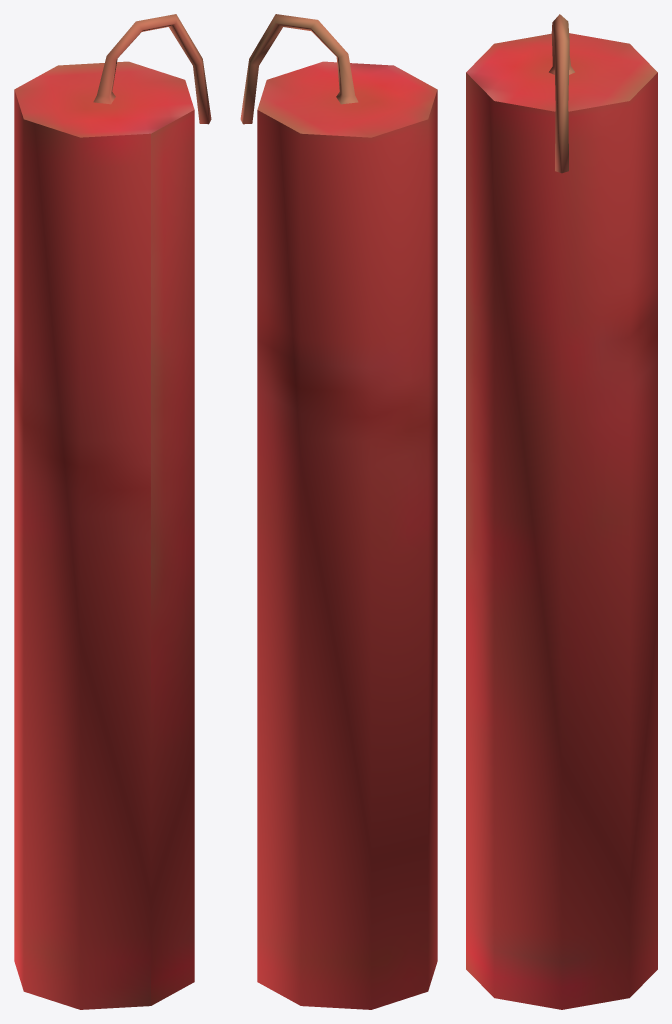
File: Dinamite.fbx
The picture shows the model from 3 angles, left to right: view 1: azimuth 30°, elevation 25°; view 2: azimuth 150°, elevation 25°; view 3: azimuth 270°, elevation 25°; orthographic projection. The views are drawn at different scales.
Parts seen in each view (by area): view 1: Dinamite; view 2: Dinamite; view 3: Dinamite.
Part boxes in pixels (x1=…): Dinamite: x1=14, y1=14, x2=211, y2=1009; Dinamite: x1=240, y1=14, x2=437, y2=1009; Dinamite: x1=466, y1=14, x2=657, y2=1009.
Bounding box in the file's own units: 7.68 × 36.9 × 6.61.
